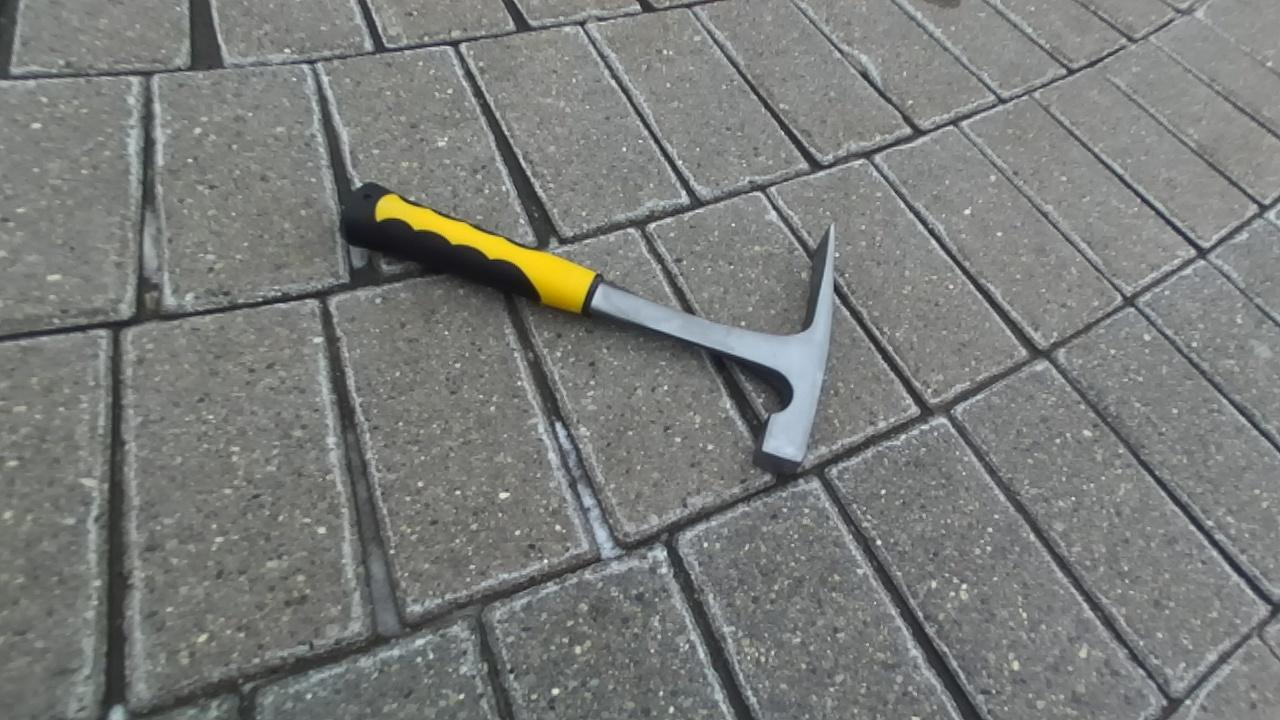pick: (342, 183, 834, 471)
